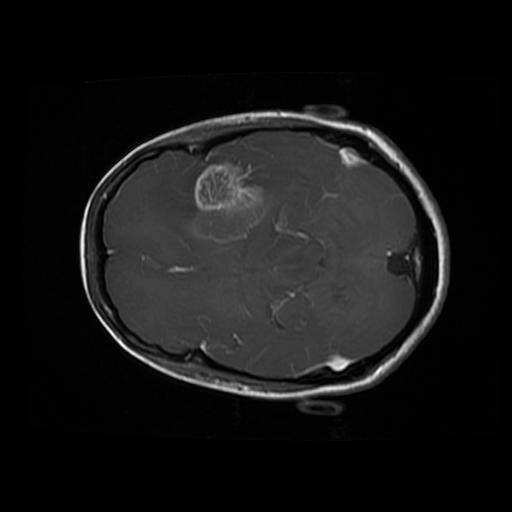glioma: (186, 160, 268, 244)
